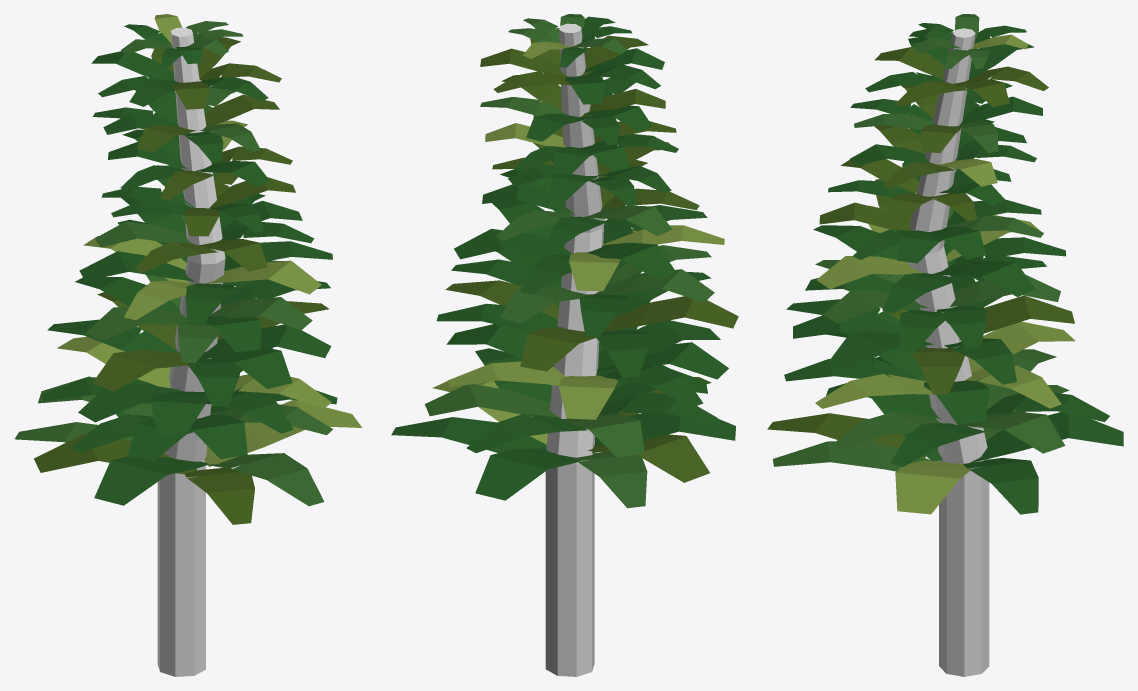
The model's file is copac_random.fbx.
3 renders of one model, left to right at view 1: azimuth 30°, elevation 25°; view 2: azimuth 150°, elevation 25°; view 3: azimuth 270°, elevation 25°, orthographic.
Visible parts, largest first — view 1: Plane.003, Cylinder; view 2: Plane.003, Cylinder; view 3: Plane.003, Cylinder.
Boxes of the visible parts, x1,y1,x2,y2 form: Plane.003: (15,14,362,524); Cylinder: (157,27,225,676); Plane.003: (391,14,738,508); Cylinder: (545,23,604,676); Plane.003: (767,14,1123,514); Cylinder: (907,28,989,676).
Bounding box in the file's own units: 894 × 1843 × 941.
